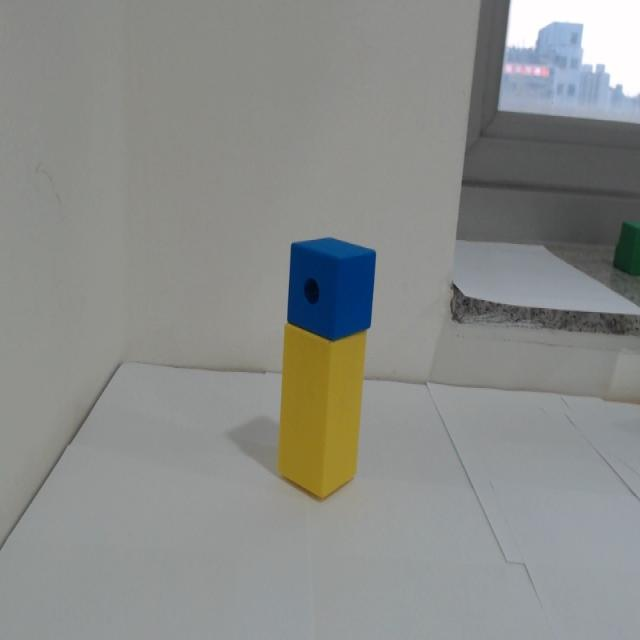cube: (285, 232, 378, 344)
